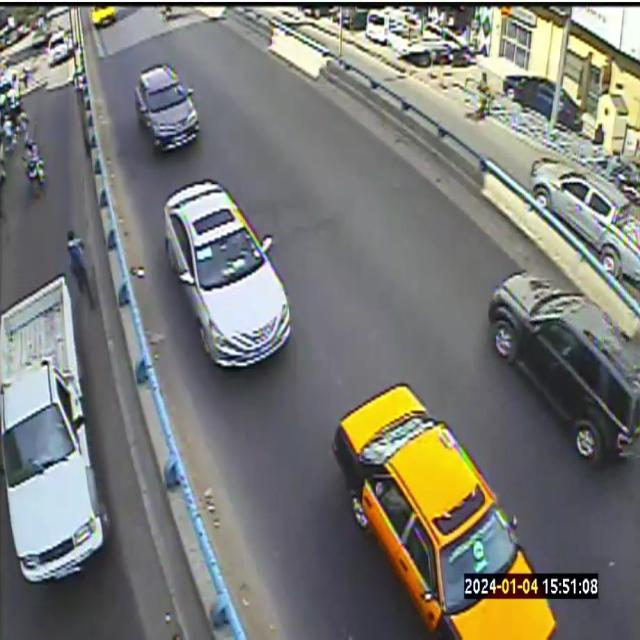car: (333, 384, 554, 639), (488, 271, 639, 465), (164, 180, 289, 367), (530, 158, 639, 281), (135, 63, 199, 148), (91, 6, 115, 28)
